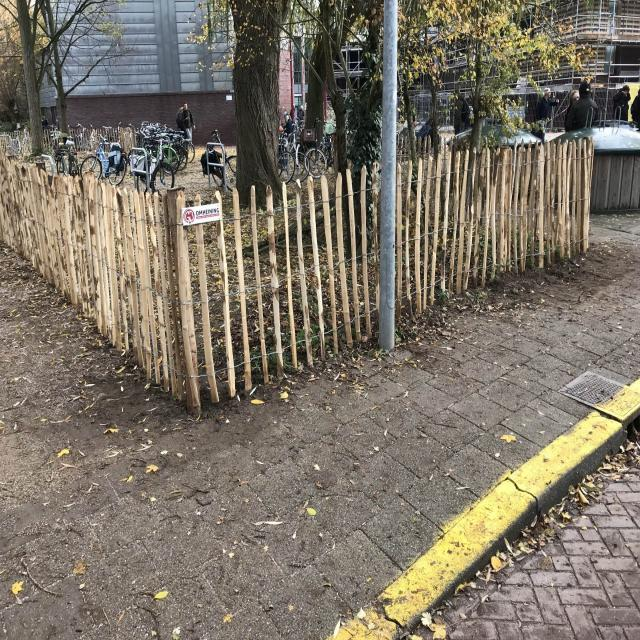fence line: (11, 171, 189, 424), (163, 193, 374, 371), (406, 166, 591, 279)
